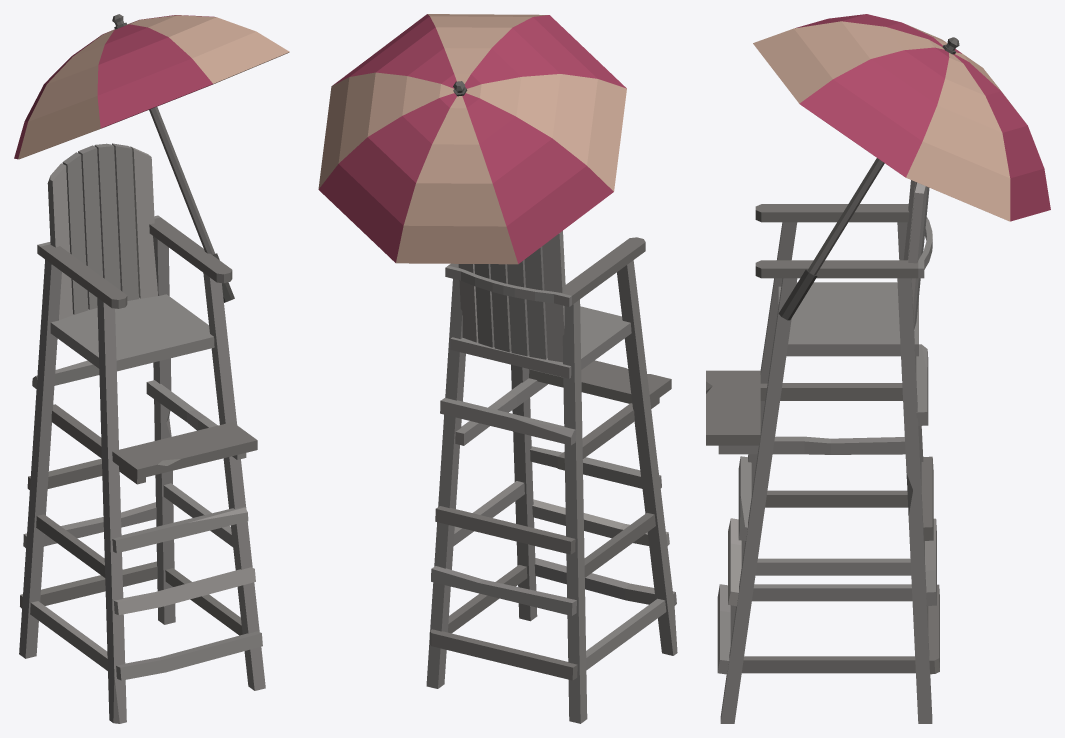
The model's file is SM_Props_City_Beach_Lifeguard_Chair.fbx.
3 views of the same model, side by side, from view 1: azimuth 30°, elevation 25°; view 2: azimuth 150°, elevation 25°; view 3: azimuth 270°, elevation 25° (orthographic). The views are drawn at different scales.
Parts seen in each view (by area): view 1: SM_Props_City_Beach_Lifeguard_Chair; view 2: SM_Props_City_Beach_Lifeguard_Chair; view 3: SM_Props_City_Beach_Lifeguard_Chair.
Part boxes in pixels (box(x1,y1,x2,y2)): SM_Props_City_Beach_Lifeguard_Chair: box(14, 14, 289, 723); SM_Props_City_Beach_Lifeguard_Chair: box(318, 14, 677, 723); SM_Props_City_Beach_Lifeguard_Chair: box(706, 14, 1050, 723).
Size of the model in its own units: 156 by 342 by 157.
